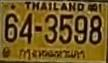3: (44, 14, 57, 43)
4: (20, 12, 31, 43)
5: (59, 14, 72, 43)
6: (4, 12, 17, 42)
8: (89, 14, 101, 44)
9: (73, 14, 86, 43)
BKK: (19, 47, 87, 62)
